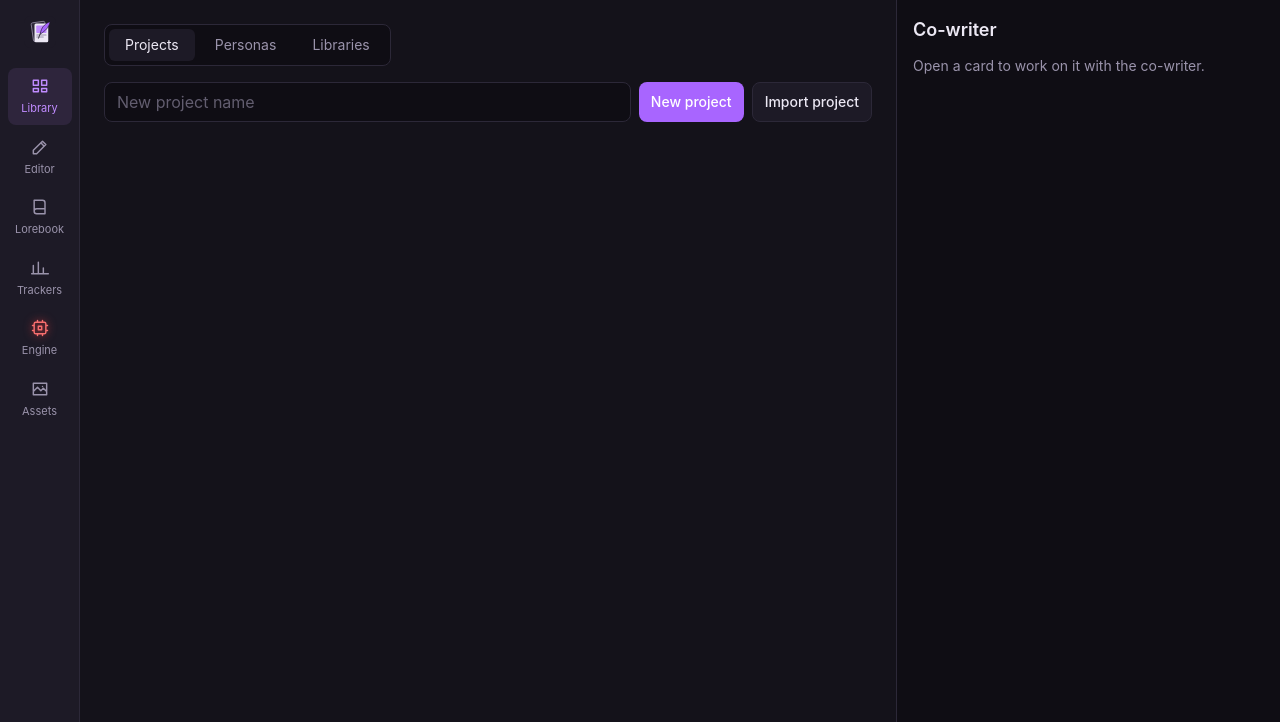
Test: App › creates a project and a character, edits it, undoes and saves
Step 1. Type "Eldoria" into the field labelled "New project name" → [367, 102], box [104,82,631,122]
Step 2. Click the button "New project" → [691, 102], box [639,82,744,122]
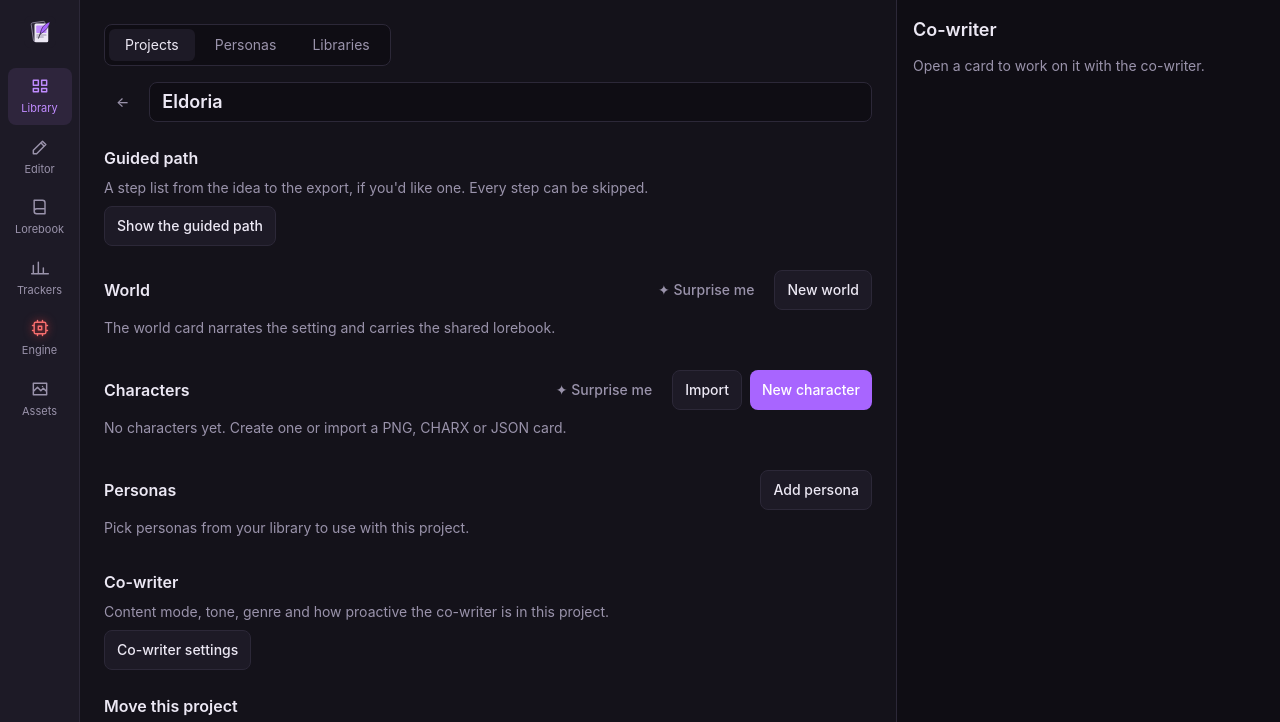
Step 3. Click the button "New character" → [811, 390], box [750,370,872,410]
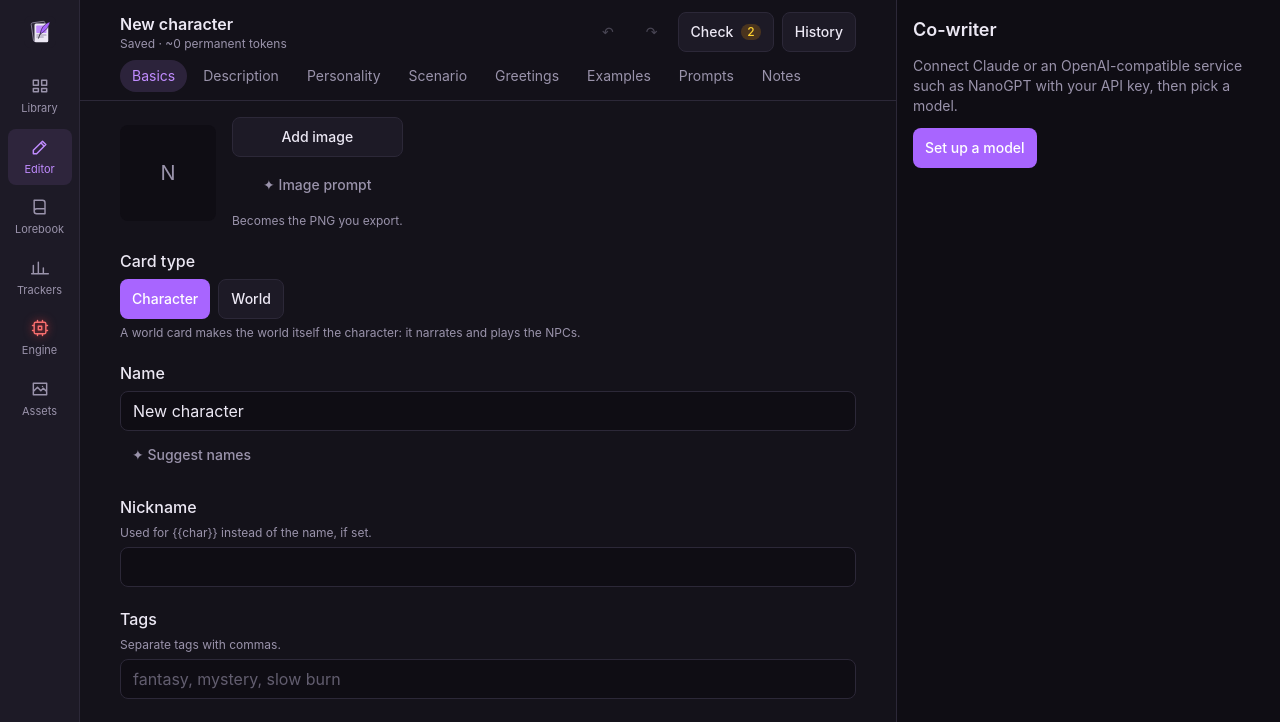
Result: the field labelled "Name" holds "New character"
Step 4. Replace the text in the field labelled "Name" with "Seraphina" → [488, 411], box [120,391,856,431]
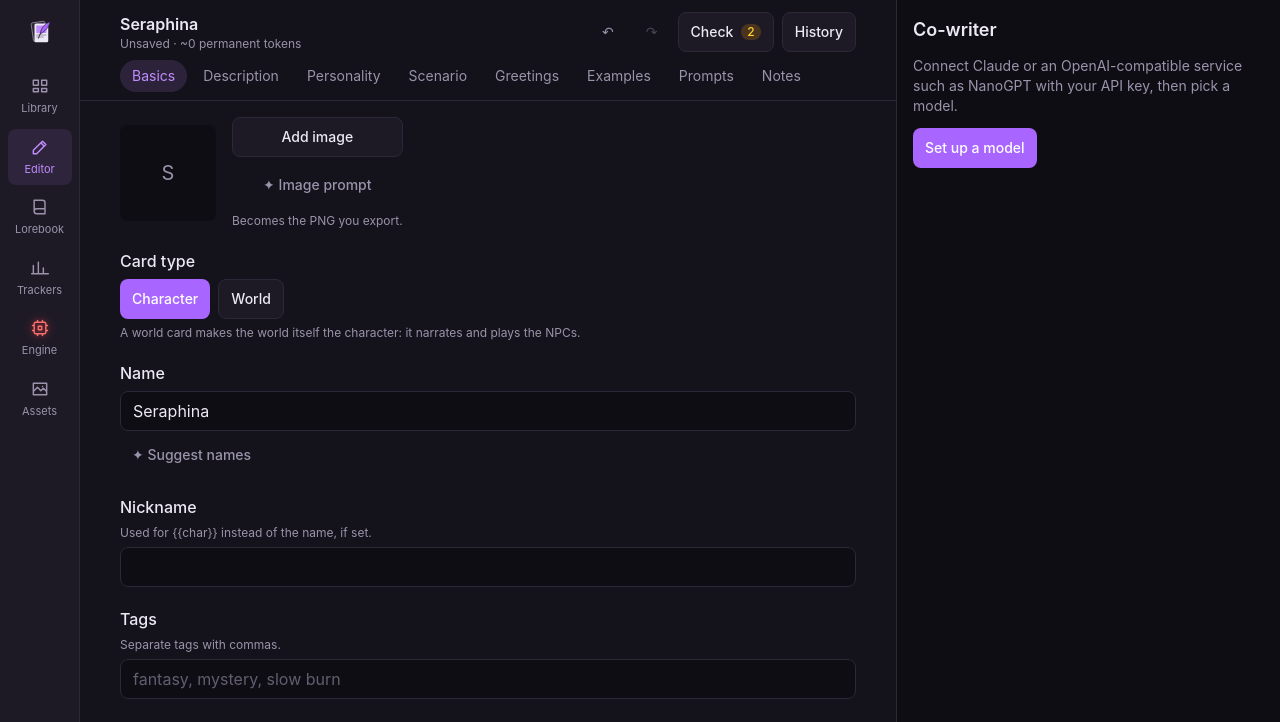
Result: the text "Unsaved" is shown at [120,36,170,51]
Step 5. Click the button "Description" → [241, 76], box [191,60,291,92]
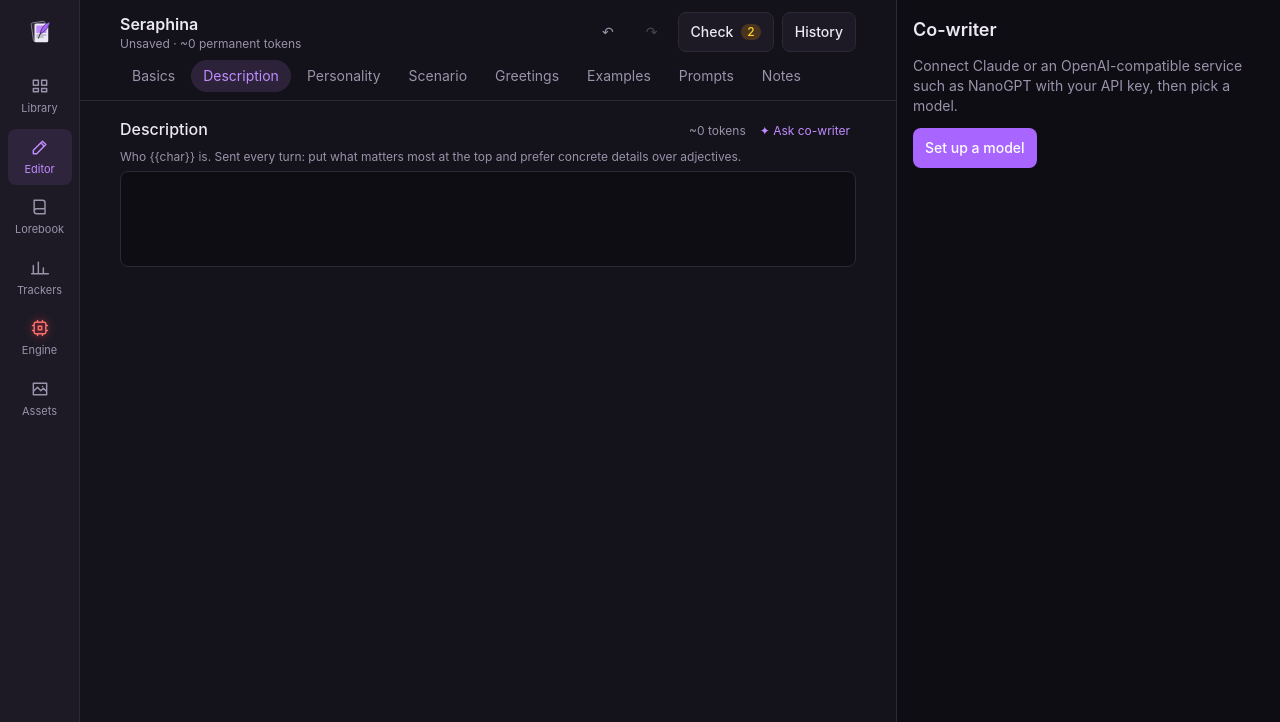
Step 6. Type "A forest guardian." into the text box labelled "Description" → [488, 219], box [120,171,856,267]
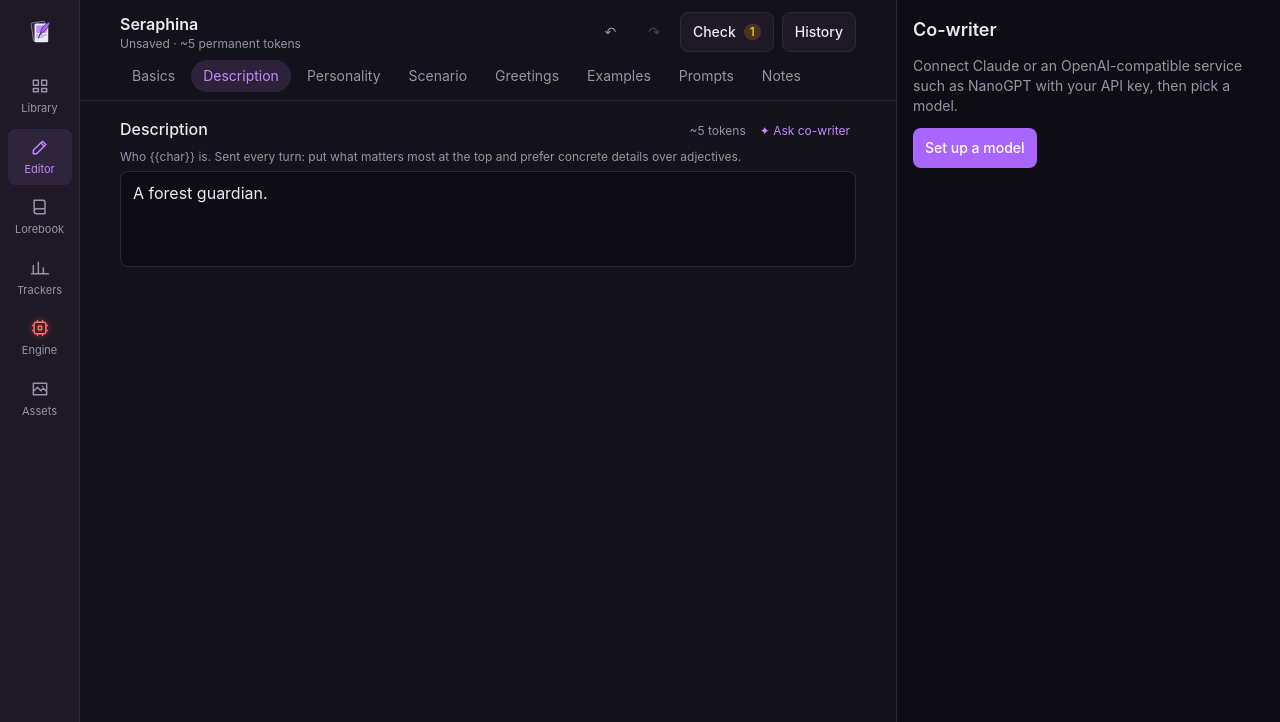
Step 7. Click the button named "Undo" → [610, 32], box [592,12,628,52]
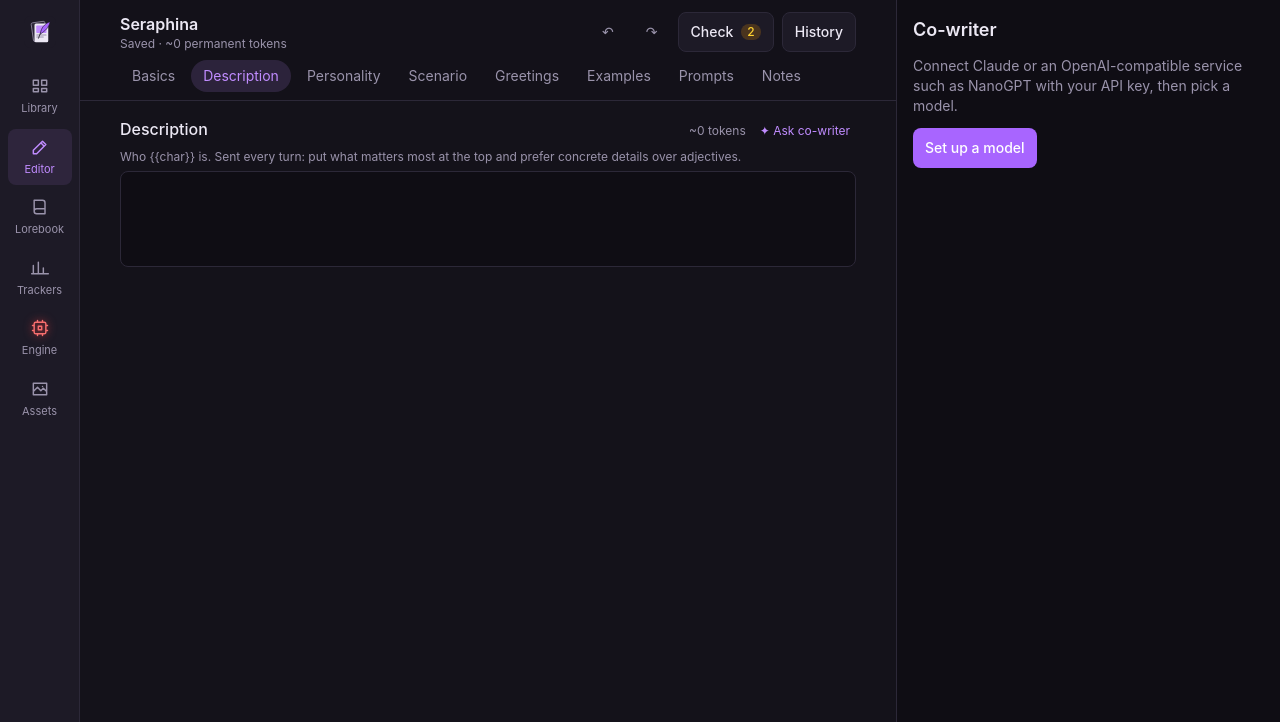
Result: the text "Saved" is shown at [120,36,155,51]
Result: the text "Seraphina" is shown at [120,14,198,34]
Result: the text box labelled "Description" is empty at [120,171,856,267]
